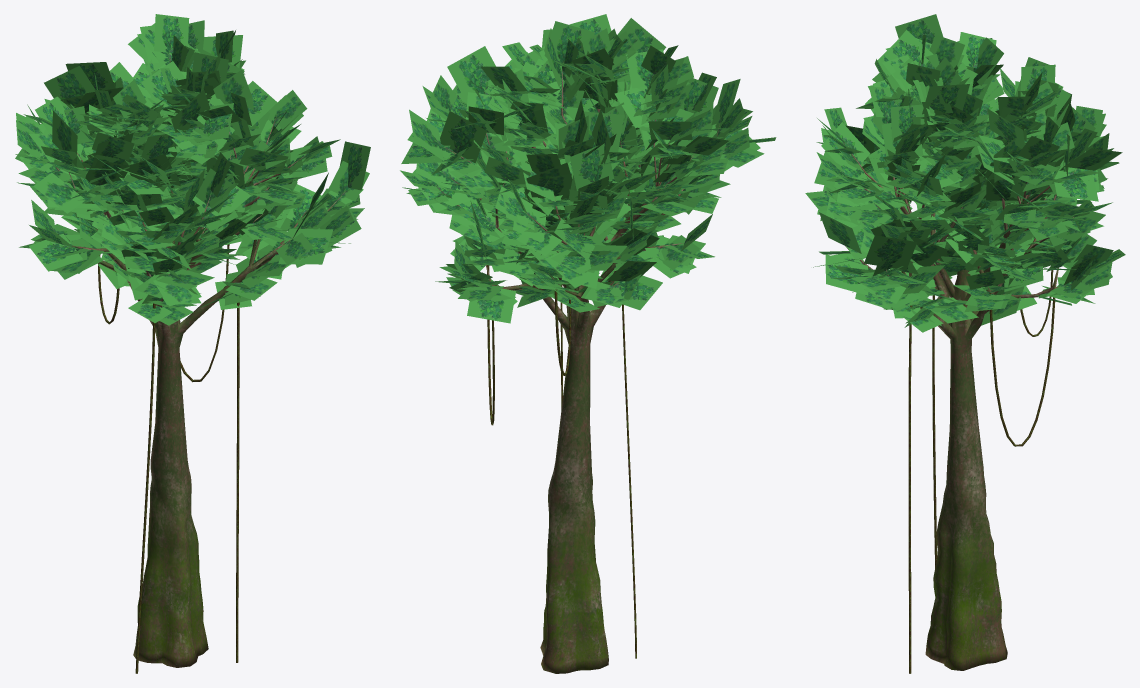
File: sb_obj_nature010_Jungles01b.fbx
3 renders of one model, left to right at view 1: azimuth 30°, elevation 25°; view 2: azimuth 150°, elevation 25°; view 3: azimuth 270°, elevation 25°, orthographic. The views are drawn at different scales.
Parts seen in each view (by area): view 1: jungles01b_leaf, sb_obj_nature010_Jungles01b, ivy_b; view 2: jungles01b_leaf, sb_obj_nature010_Jungles01b, ivy_b; view 3: jungles01b_leaf, sb_obj_nature010_Jungles01b, ivy_b.
Boxes of the visible parts, x1,y1,x2,y2 form: jungles01b_leaf: [15, 14, 370, 325]; sb_obj_nature010_Jungles01b: [56, 56, 345, 667]; ivy_b: [98, 244, 239, 673]; jungles01b_leaf: [400, 14, 776, 323]; sb_obj_nature010_Jungles01b: [437, 69, 727, 673]; ivy_b: [487, 265, 636, 658]; jungles01b_leaf: [805, 14, 1125, 332]; sb_obj_nature010_Jungles01b: [843, 113, 1076, 670]; ivy_b: [908, 270, 1055, 673].
Bounding box in the file's own units: 4.46 × 7.91 × 3.85.
2 materials, 2 textured.
